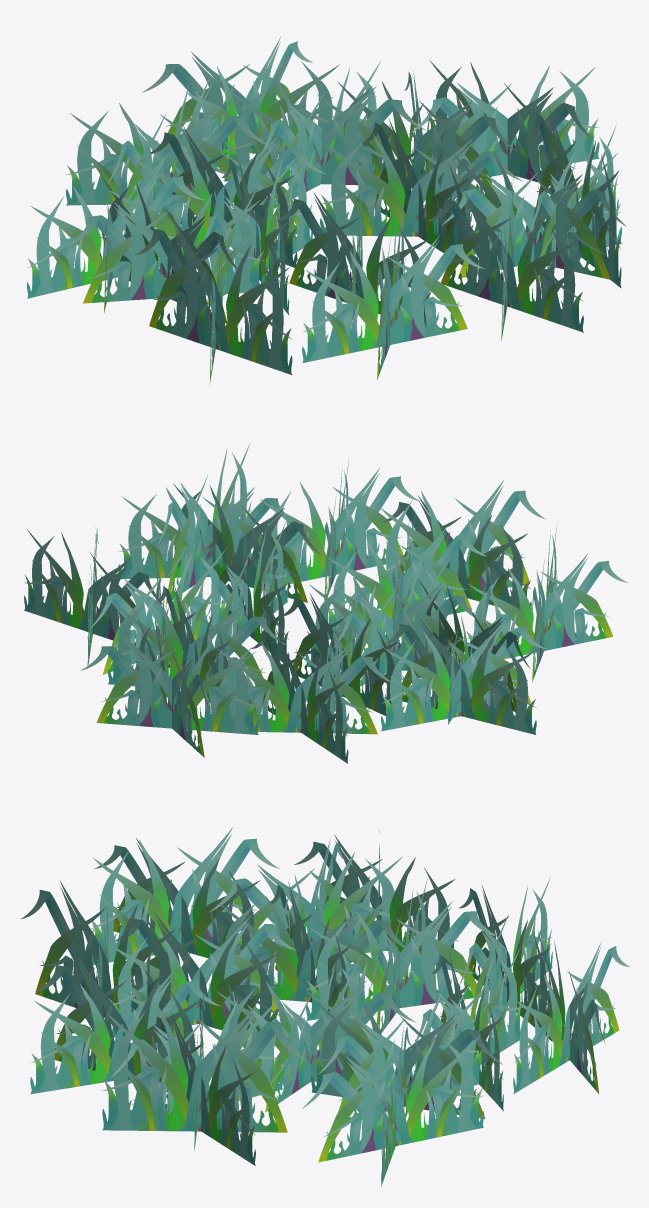
Rendered from grass patch.fbx.
The picture shows the model from 3 angles, top to bottom: view 1: azimuth 30°, elevation 25°; view 2: azimuth 150°, elevation 25°; view 3: azimuth 270°, elevation 25°; orthographic projection. The views are drawn at different scales.
Visible parts, largest first — view 1: grass_plane1, grass_plane2; view 2: grass_plane1, grass_plane2; view 3: grass_plane1, grass_plane2.
Part boxes in pixels (<box>): grass_plane1: <box>27,60,621,384</box>; grass_plane2: <box>65,36,626,333</box>; grass_plane1: <box>24,443,627,763</box>; grass_plane2: <box>80,480,530,757</box>; grass_plane1: <box>21,827,552,1186</box>; grass_plane2: <box>108,838,630,1150</box>.
Size of the model in its own units: 122 by 25.26 by 109.
